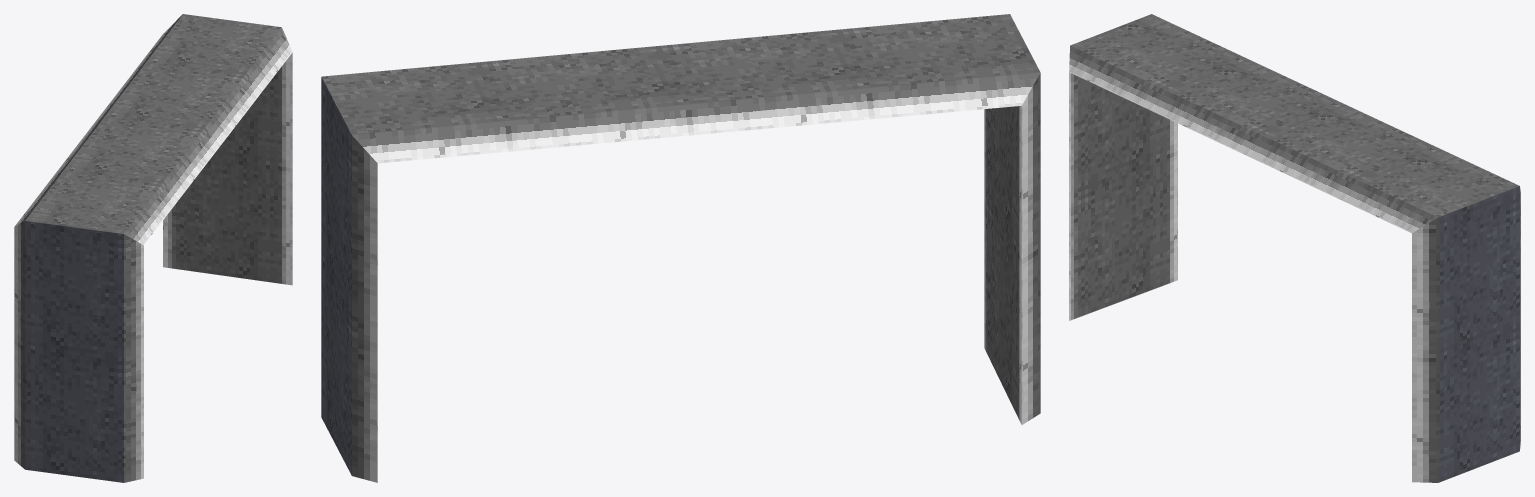
The model's file is primary_043.glb.
3 views of the same model, side by side, from view 1: azimuth 30°, elevation 25°; view 2: azimuth 150°, elevation 25°; view 3: azimuth 270°, elevation 25° (orthographic). The views are drawn at different scales.
Visible parts, largest first — view 1: Object; view 2: Object; view 3: Object.
Boxes of the visible parts, <box> form: Object: <box>14,14,292,482</box>; Object: <box>321,14,1040,482</box>; Object: <box>1069,14,1520,482</box>.
Bounding box in the file's own units: 0.595 × 0.3619 × 0.5583.
3 materials, 3 textured.
